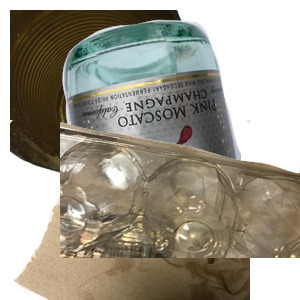glass: (60, 17, 300, 197)
metal: (10, 10, 200, 180)
plastic: (60, 120, 300, 300)
trash: (10, 120, 250, 300)
